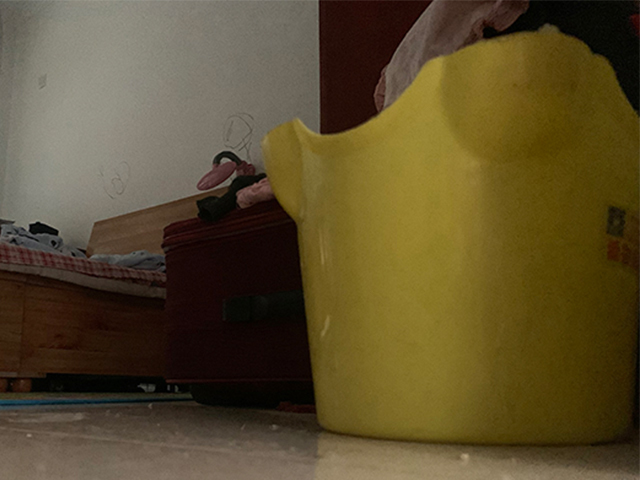bed: (1, 184, 230, 394)
cabinet: (160, 196, 314, 405)
